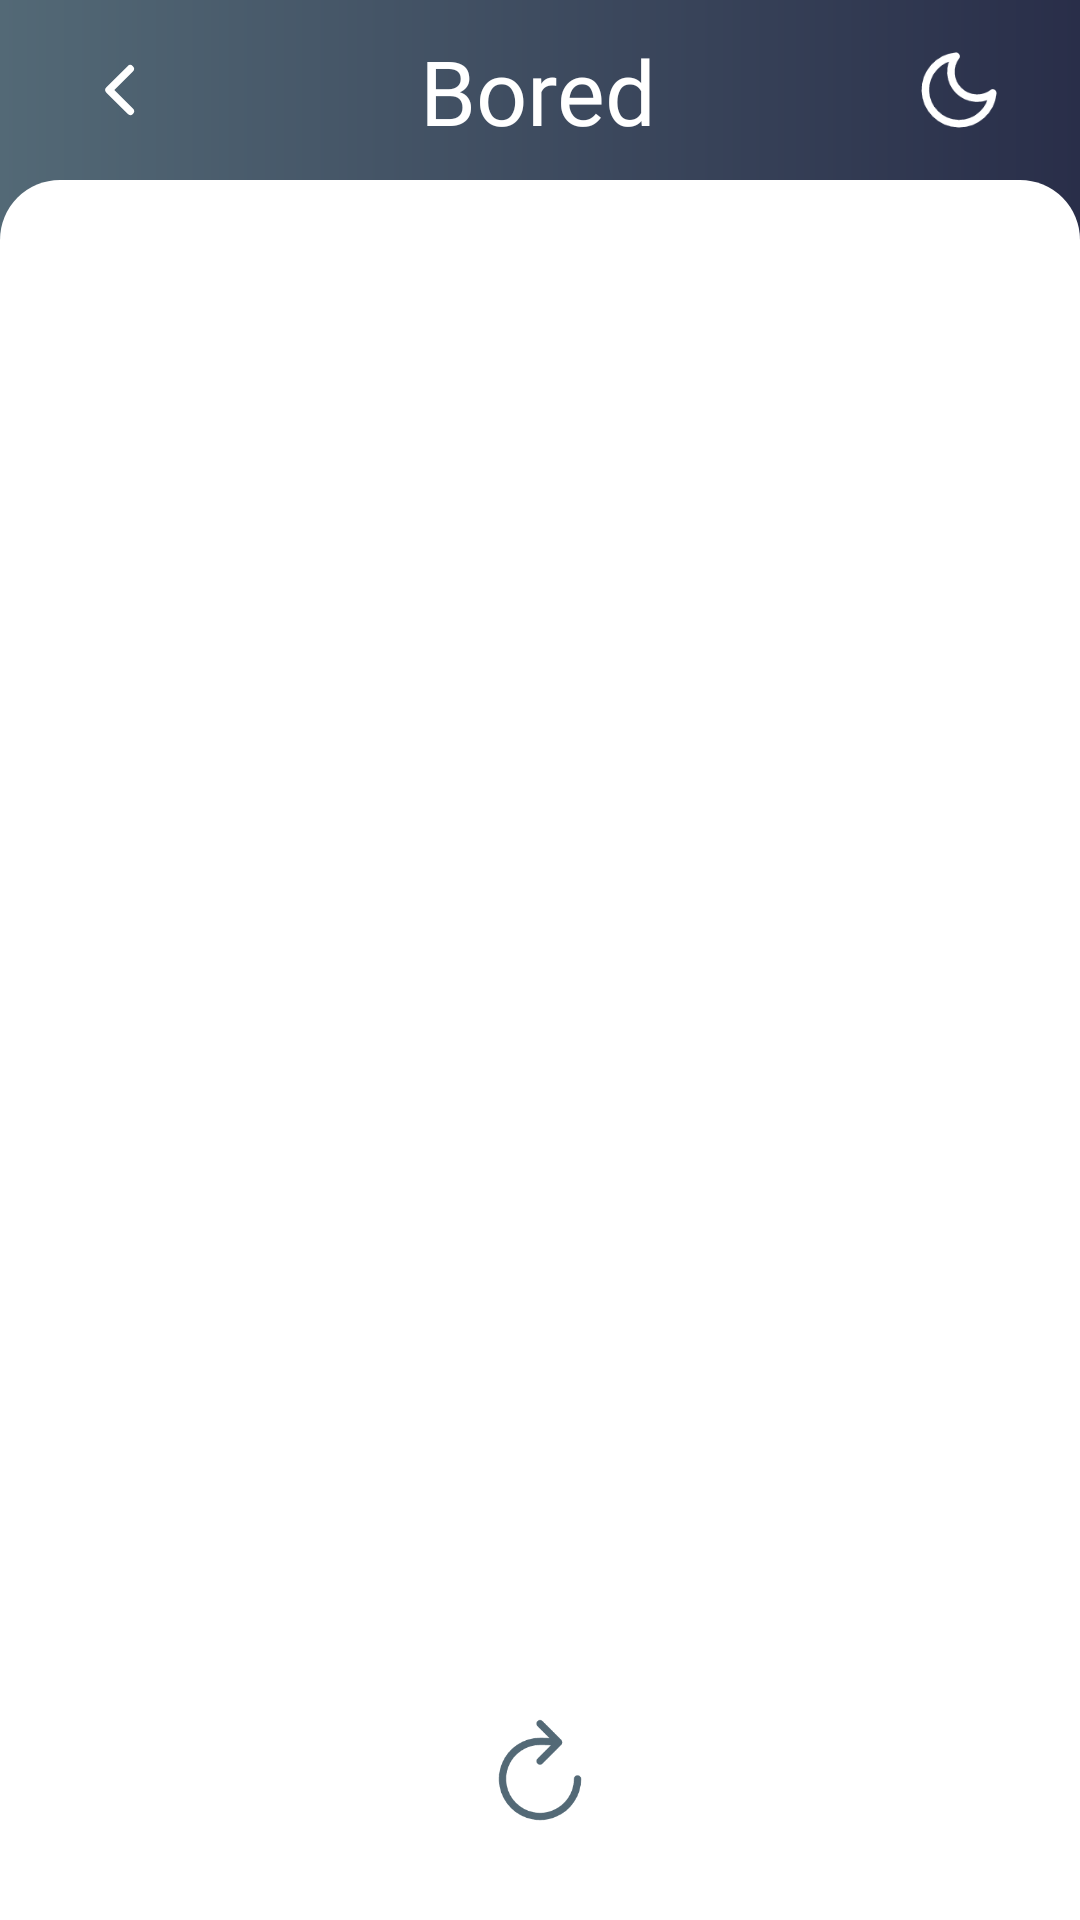

Icon click points for this 1080 x 1920 phone screenshot, format point (x, y):
bored refresh: point (540, 1770)
chevron left: point (120, 90)
moon: point (959, 90)
